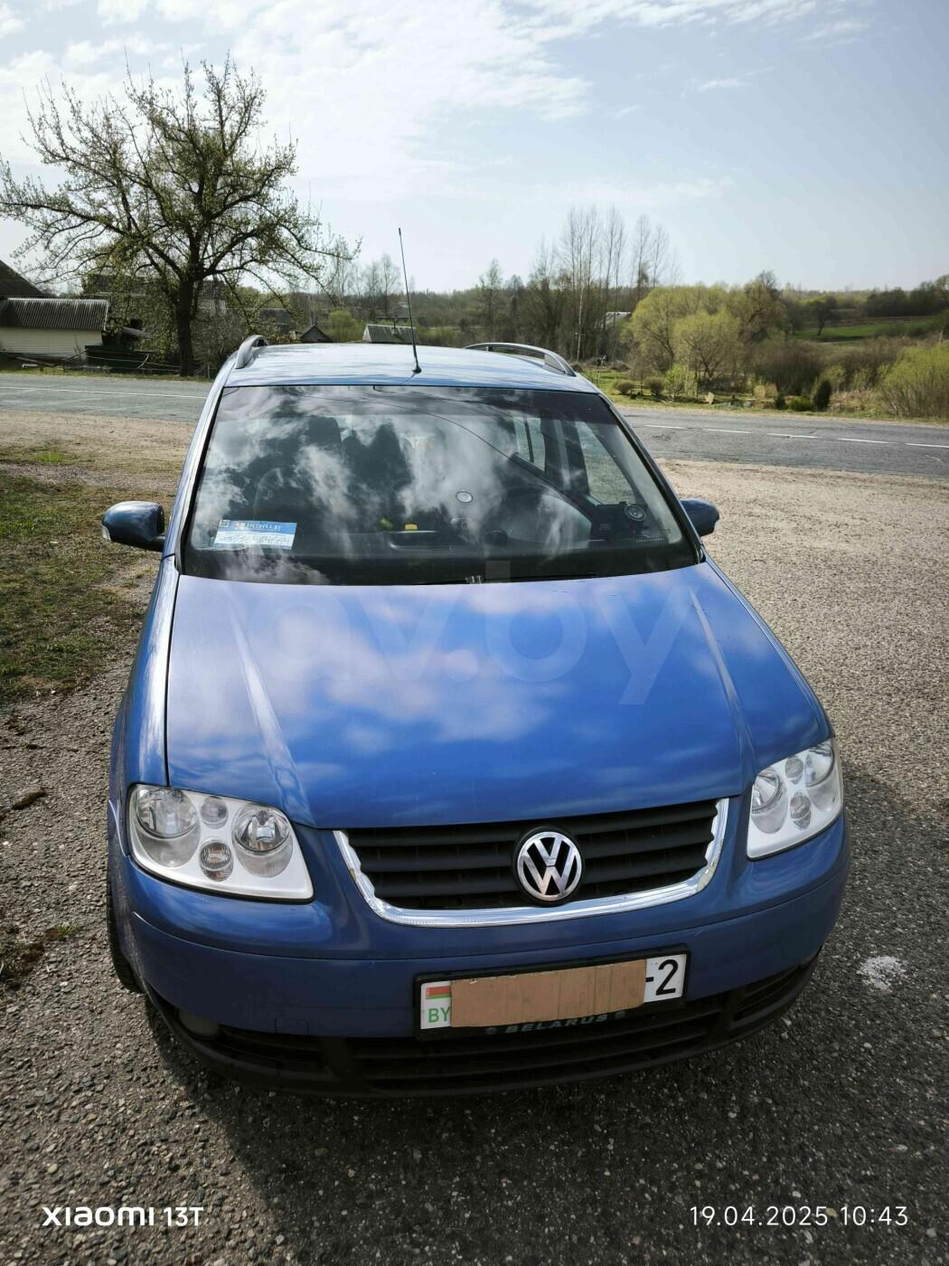Touran_2003-2006: (94, 336, 846, 1076)
